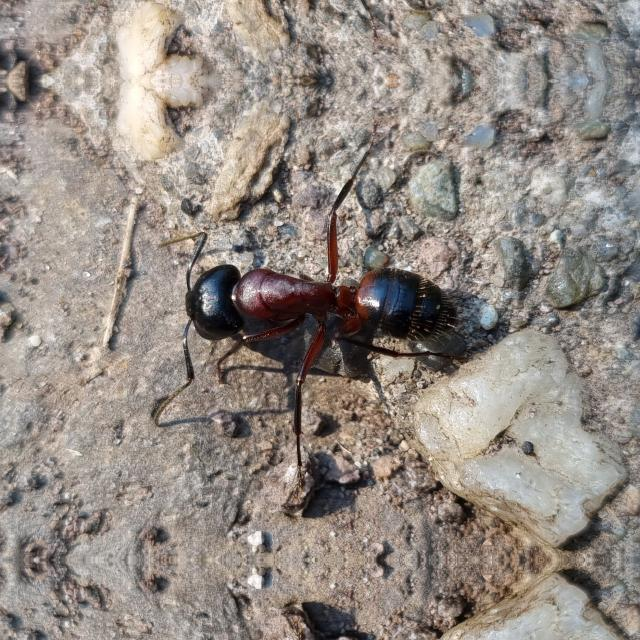Camponotus: (135, 218, 491, 390)
